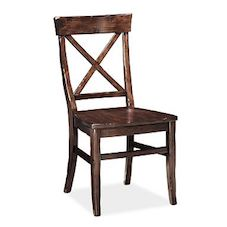chair: (28, 4, 198, 218)
